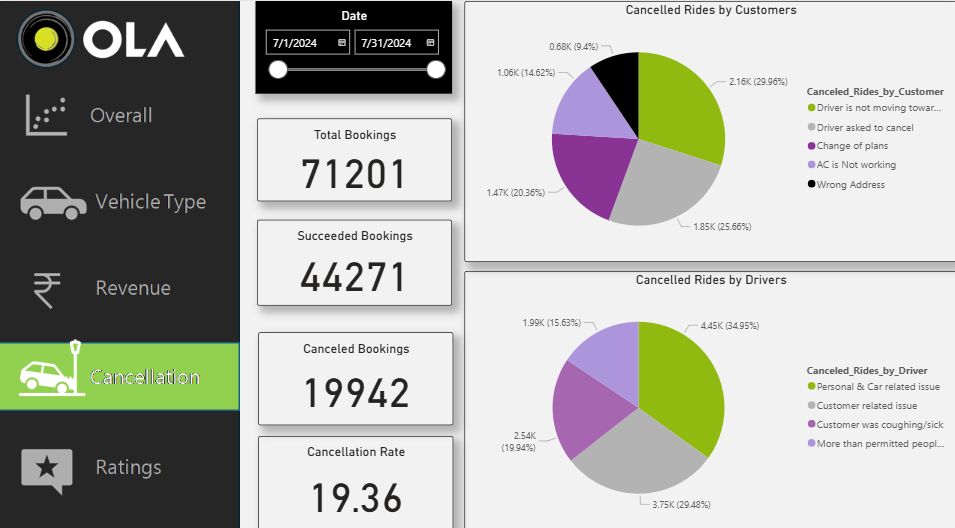

This screenshot's page, from the dashboard's own definition file:
{"tool":"powerbi","page":{"name":"Cancellation","canvas":[1280,720],"ordinal":3},"visuals":[{"type":"actionButton","box":[0,460,322,88],"z":0},{"type":"actionButton","box":[0,224.4,322.2,83.3],"z":1000},{"type":"actionButton","box":[0,218,326,90],"z":2000},{"type":"actionButton","box":[0,336,326,90],"z":3000},{"type":"actionButton","box":[0,580,326,90],"z":4000},{"type":"actionButton","box":[0,110,326,90],"z":5000},{"type":"pieChart","title":"Cancelled Rides by Customers","fields":{"Category":["July.Canceled_Rides_by_Customer"],"Y":["CountNonNull(July.Canceled_Rides_by_Customer)"]},"box":[623.3,0,656.7,348.3],"z":6000},{"type":"pieChart","title":"Cancelled Rides by Drivers","fields":{"Category":["July.Canceled_Rides_by_Driver"],"Y":["CountNonNull(July.Canceled_Rides_by_Driver)"]},"box":[623.3,360,656.7,345],"z":7000},{"type":"slicer","title":"Date","fields":{"Values":["July.Date"]},"box":[345,0,261.7,123.3],"z":8000},{"type":"card","title":"Total Bookings","fields":{"Values":["CountNonNull(July.Booking_ID)"]},"box":[346,156,260,110],"z":9000},{"type":"card","title":"Succeeded Bookings","fields":{"Values":["CountNonNull(July.Booking_ID)"]},"box":[346,292,260,114],"z":10000},{"type":"card","title":"Canceled Bookings","fields":{"Values":["CountNonNull(July.Booking_ID)"]},"box":[348,442,260,124],"z":11000},{"type":"card","title":"Cancellation Rate","fields":{"Values":["July.CanceledPercentage"]},"box":[348,580,260,126],"z":12000}]}

Visuals, with their boxes on the page's 1280x720 design canvas (x1, y1, x2, y2). These are canvas units, not pixel positions in the 955x528 screenshot, which may show the page scaled, cropped or inside an application window:
actionButton: bbox=(0, 460, 322, 548)
actionButton: bbox=(0, 224, 322, 308)
actionButton: bbox=(0, 218, 326, 308)
actionButton: bbox=(0, 336, 326, 426)
actionButton: bbox=(0, 580, 326, 670)
actionButton: bbox=(0, 110, 326, 200)
"Cancelled Rides by Customers" pieChart: bbox=(623, 0, 1280, 348)
"Cancelled Rides by Drivers" pieChart: bbox=(623, 360, 1280, 705)
"Date" slicer: bbox=(345, 0, 607, 123)
"Total Bookings" card: bbox=(346, 156, 606, 266)
"Succeeded Bookings" card: bbox=(346, 292, 606, 406)
"Canceled Bookings" card: bbox=(348, 442, 608, 566)
"Cancellation Rate" card: bbox=(348, 580, 608, 706)
